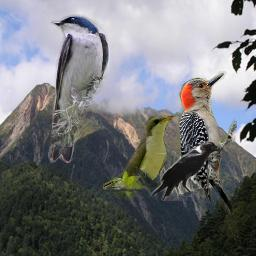Crow: (148, 139, 221, 201)
Cuckoo: (103, 113, 177, 200)
Swallow: (46, 14, 110, 163)
Woodpecker: (173, 69, 237, 222)
